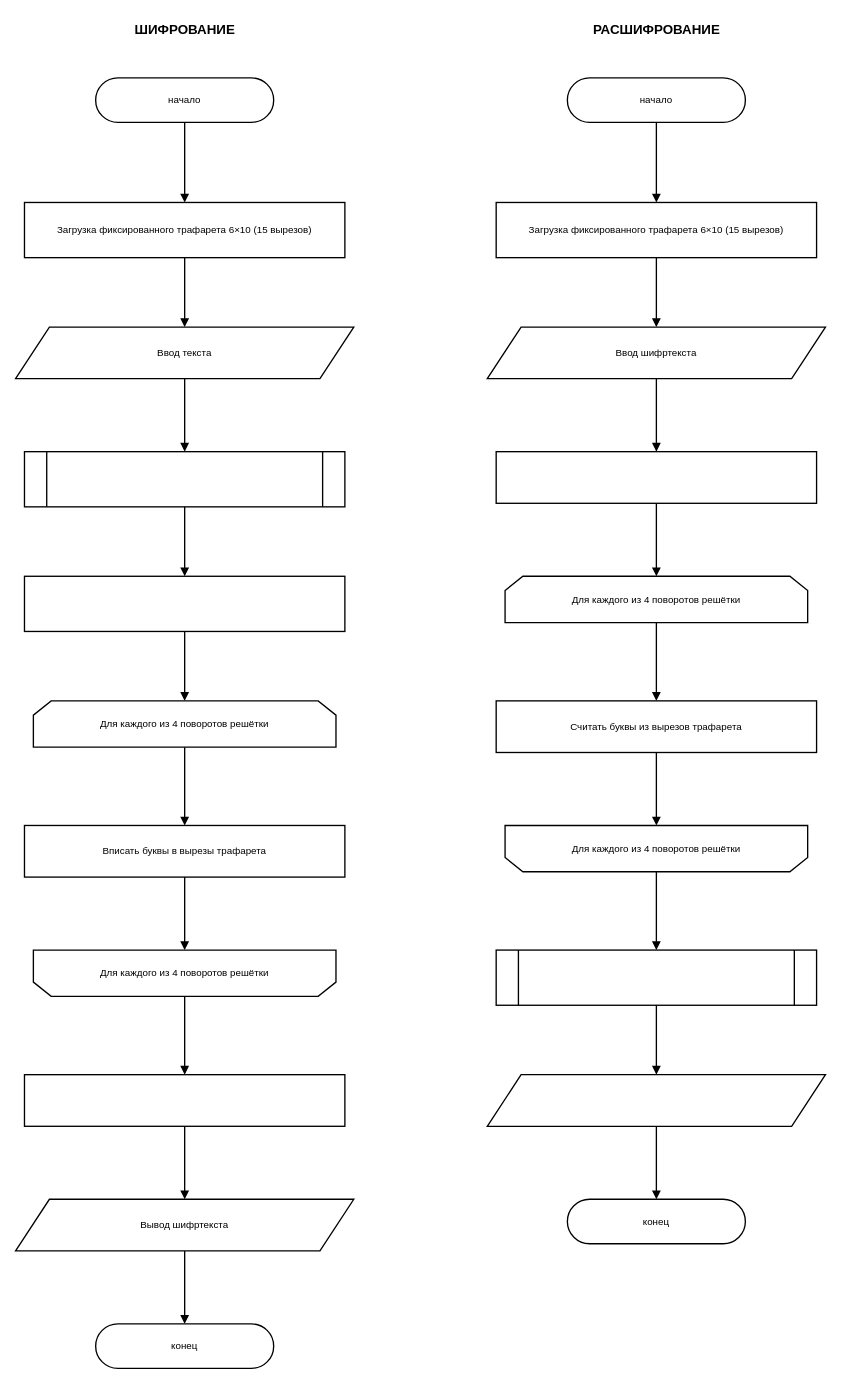
The diagram is 842 pixels wide and 1384 high, and some of its shapes have lost their labels. The box of each missing label's shape, as (x1, y1, x2, y2) in pixels:
Восстановление знаков препинания (пробелы не восстанавливаются): (495, 949, 817, 1006)
Вывод открытого текста: (486, 1074, 826, 1127)
Дополнение случайными буквами (пустышками) до 60 знаков: (23, 575, 345, 632)
Замена знаков препинания кодами, удаление пробелов: (23, 451, 345, 507)
Запись шифртекста в таблицу построчно: (495, 451, 817, 504)
Считывание таблицы построчно: (23, 1074, 345, 1127)
